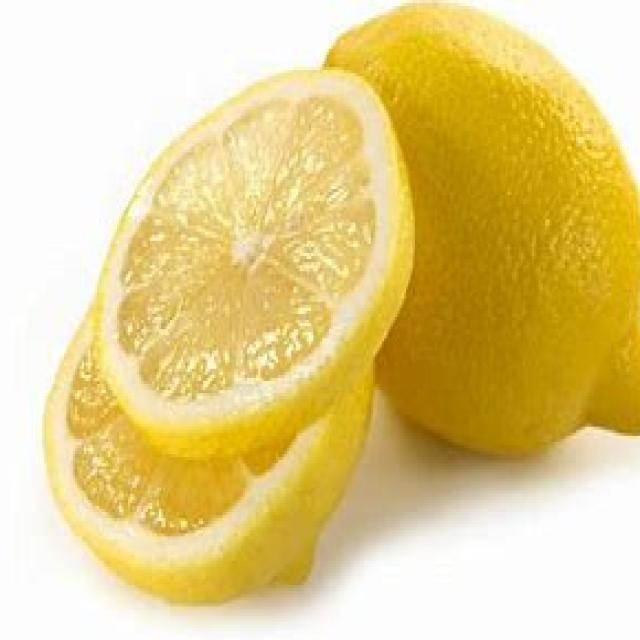lemon: (318, 6, 640, 462), (89, 77, 412, 457)
